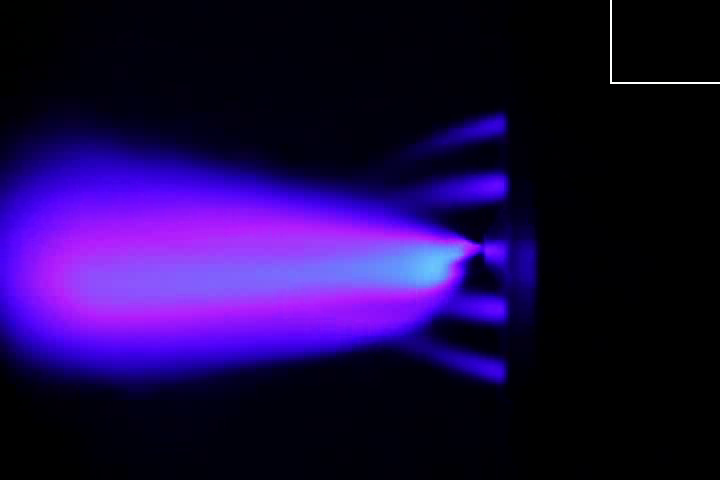burner cap: (482, 240, 514, 270)
pilot flame: (384, 104, 505, 154), (402, 335, 507, 386), (391, 171, 509, 212), (450, 290, 512, 323)
stable: (25, 202, 476, 319)
